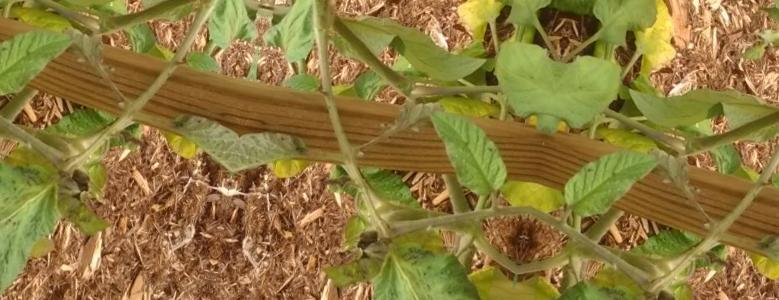Tomato leaf: (330, 235, 519, 300), (460, 36, 563, 150)
